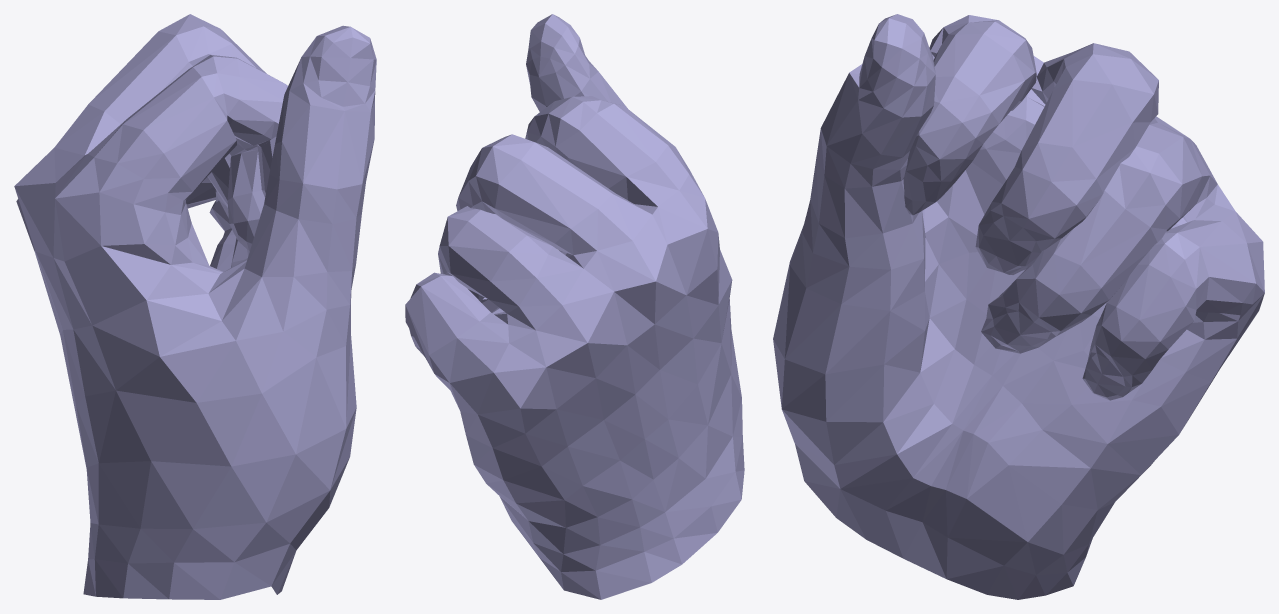
File: frame_0043_source_000043_hand.glb
3 renders of one model, left to right at view 1: azimuth 30°, elevation 25°; view 2: azimuth 150°, elevation 25°; view 3: azimuth 270°, elevation 25°, orthographic. The views are drawn at different scales.
Parts seen in each view (by area): view 1: world; view 2: world; view 3: world.
Part boxes in pixels (x1,y1,x2,y2): world: [14, 14, 376, 599]; world: [405, 14, 744, 599]; world: [773, 14, 1264, 599].
Size of the model in its own units: 0.0614 by 0.1241 by 0.0892.
